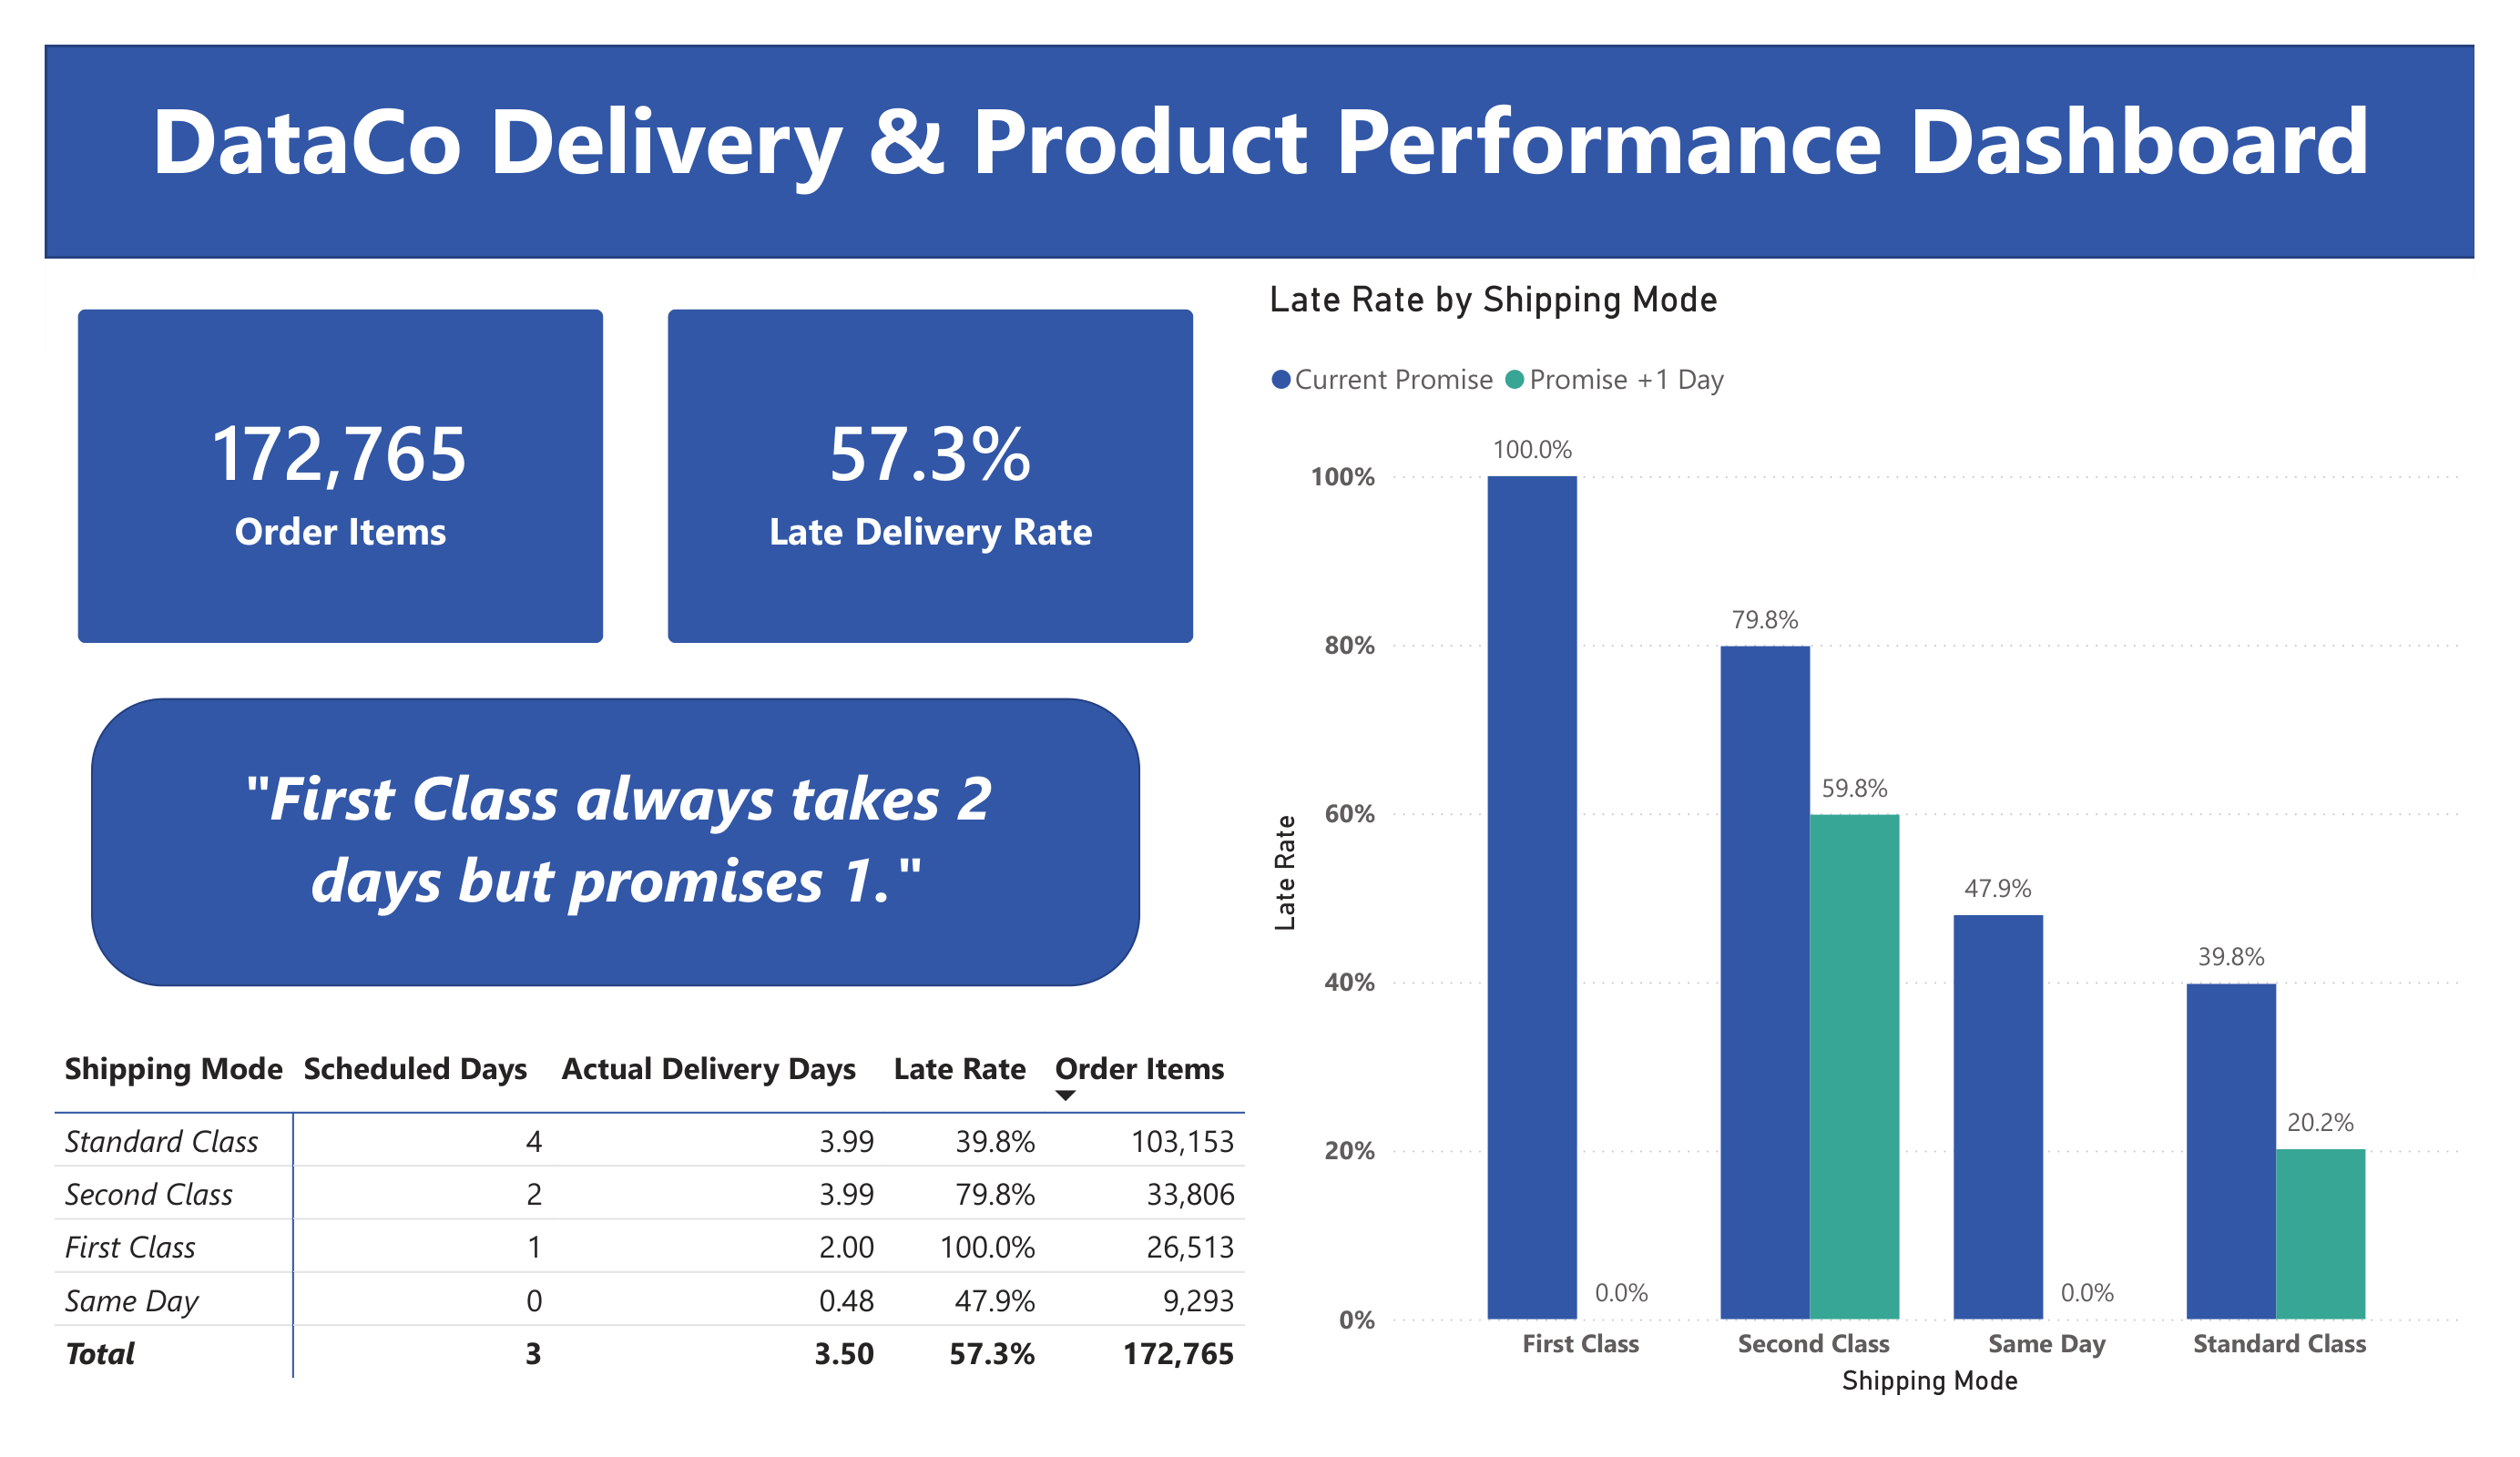

The dashboard page shown, as its layout file describes it:
{"tool":"powerbi","page":{"name":"Delivery Performance","canvas":[1280,720],"ordinal":0},"visuals":[{"type":"cardVisual","fields":{"Data":["CountNonNull(dataco_clean.Order Id)"]},"box":[0,121.8,310.8,210.6],"z":0},{"type":"cardVisual","fields":{"Data":["Avg(dataco_clean.is_late)"]},"box":[310.8,121.8,310.8,210.6],"z":1000},{"type":"clusteredColumnChart","title":"Late Rate by Shipping Mode","fields":{"Category":["dataco_clean.Shipping Mode"],"Y":["Avg(dataco_clean.is_late)","Avg(dataco_clean.late_if_plus1)"]},"box":[640.3,121.8,640.3,594.4],"z":2000},{"type":"pivotTable","fields":{"Rows":["dataco_clean.Shipping Mode"],"Values":["Avg(dataco_clean.Days for shipment (scheduled))","Avg(dataco_clean.Days for shipping (real))","Avg(dataco_clean.is_late)","CountNonNull(dataco_clean.Order Id)"]},"box":[0,520,640.3,196.2],"z":3000},{"type":"shape","box":[0,0,1280.6,111.7],"z":4000},{"type":"textbox","box":[0,10,1280.6,88.8],"z":5000},{"type":"shape","box":[24.4,343.8,552.9,151.8],"z":6000},{"type":"textbox","box":[77.3,368.1,446.9,103.1],"z":7000}]}

Visuals, with their boxes on the page's 1280x720 design canvas (x1, y1, x2, y2). These are canvas units, not pixel positions in the 2520x1457 screenshot, which may show the page scaled, cropped or inside an application window:
cardVisual - CountNonNull(dataco_clean.Order Id): crop(0, 122, 311, 332)
cardVisual - Avg(dataco_clean.is_late): crop(311, 122, 622, 332)
"Late Rate by Shipping Mode" clusteredColumnChart: crop(640, 122, 1281, 716)
pivotTable - dataco_clean.Shipping Mode x Avg(dataco_clean.Days for shipment (scheduled)): crop(0, 520, 640, 716)
shape: crop(0, 0, 1281, 112)
textbox: crop(0, 10, 1281, 99)
shape: crop(24, 344, 577, 496)
textbox: crop(77, 368, 524, 471)
